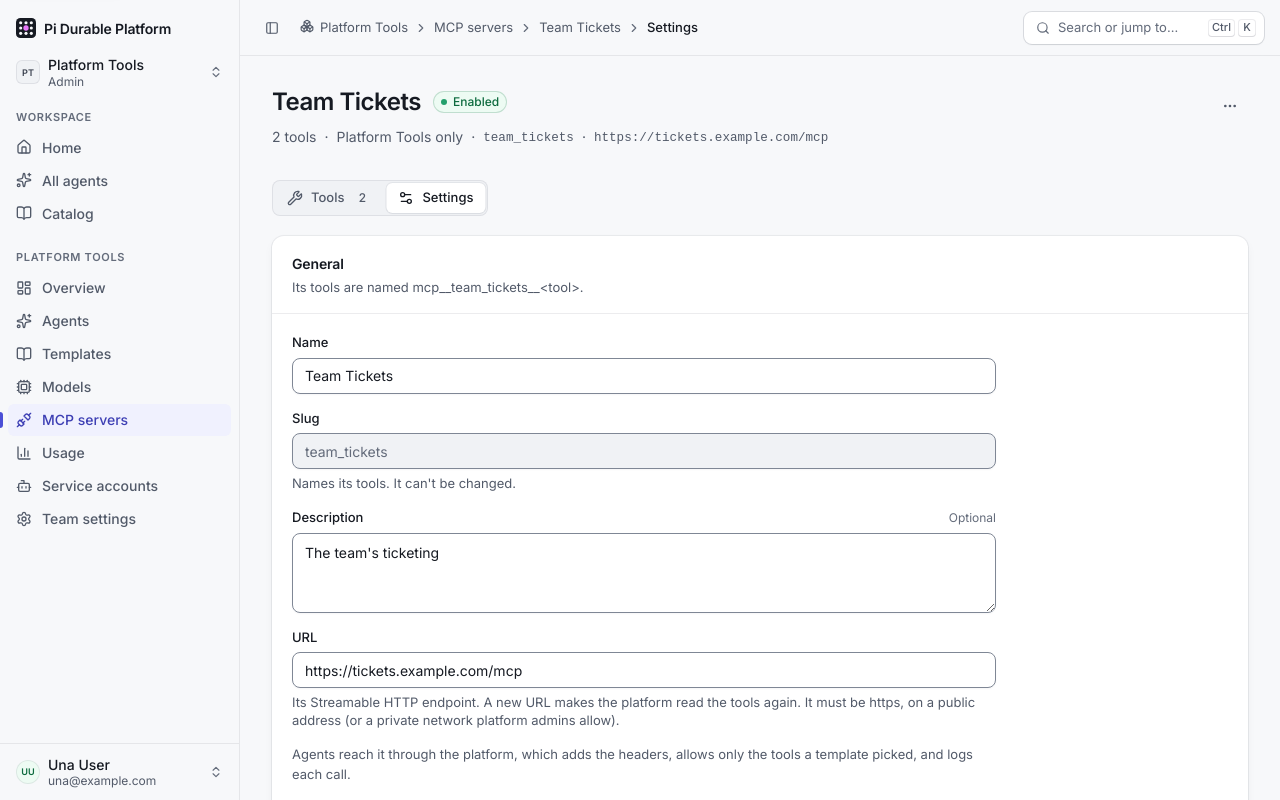
Team › MCP servers › a server › has no access mode or publishing, saves with If-Match through the team's route, and shows a refused address
Check: the text "Agents reach it through the platform" is shown, box [292, 746, 973, 782]
Check: the field labelled "Slug" is disabled, box [292, 433, 996, 469]
Replace the text in the field labelled "URL" with "https://nowhere.example/mcp" at (644, 670), box [292, 652, 996, 688]
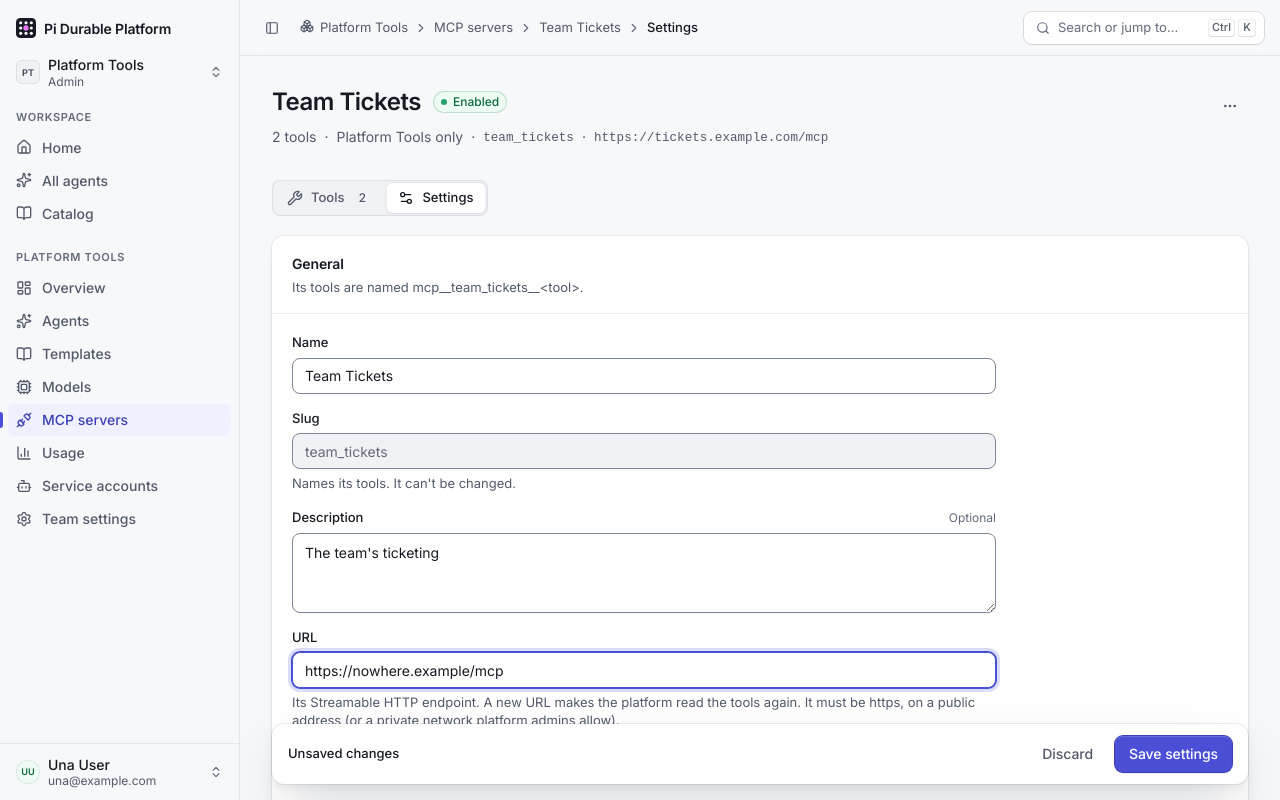
Click the button "Save settings" at (1174, 754), box [1115, 736, 1232, 772]
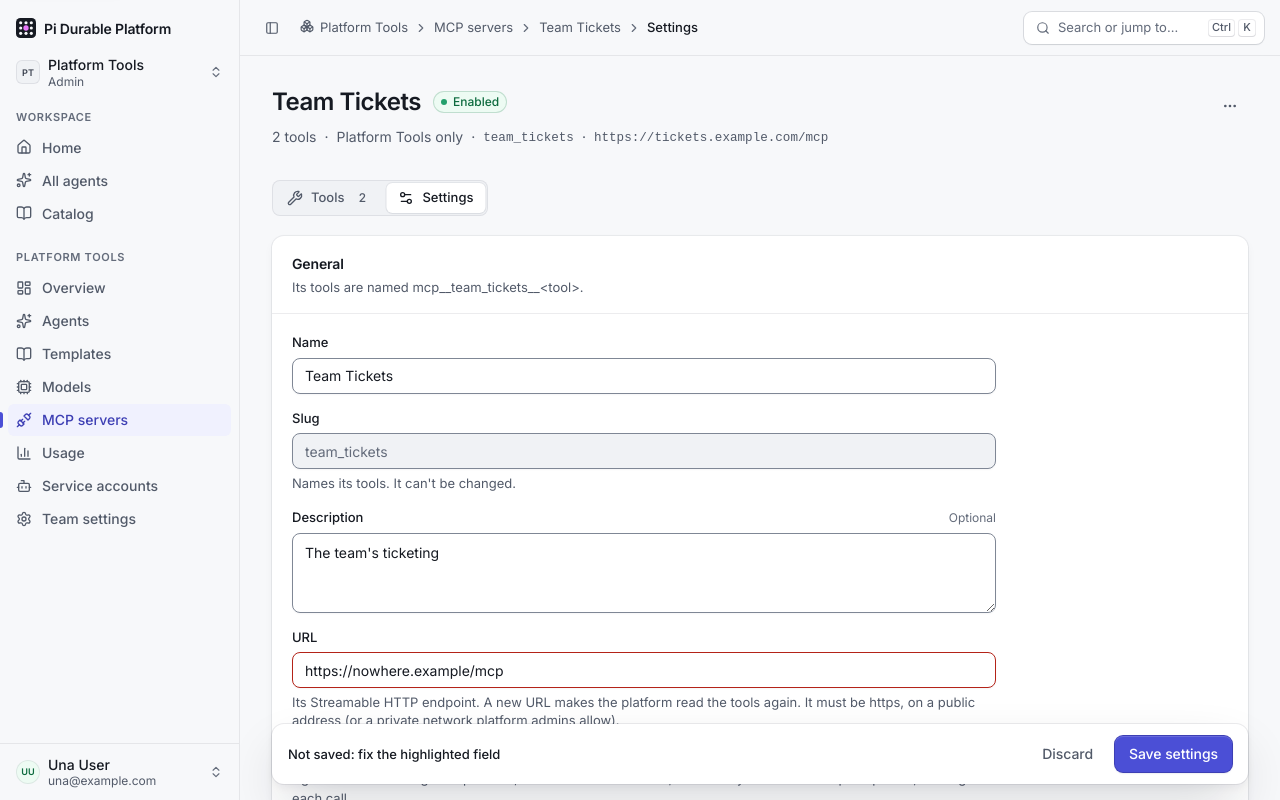
Check: the text "The server's host name could not be resolved" is shown, box [312, 736, 596, 753]
